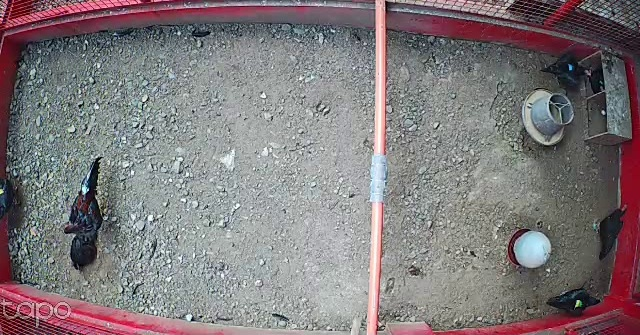Chicken: (62, 222, 105, 282), (593, 201, 632, 263), (544, 280, 605, 319), (0, 162, 30, 236), (539, 50, 593, 90)
Rooster: (64, 150, 114, 248)
Saddle_Color_Blue: (567, 63, 574, 72)
Saddle_Color_Yellow: (0, 186, 3, 196)
Saddle_Color_YellowGreen: (575, 298, 584, 306)
